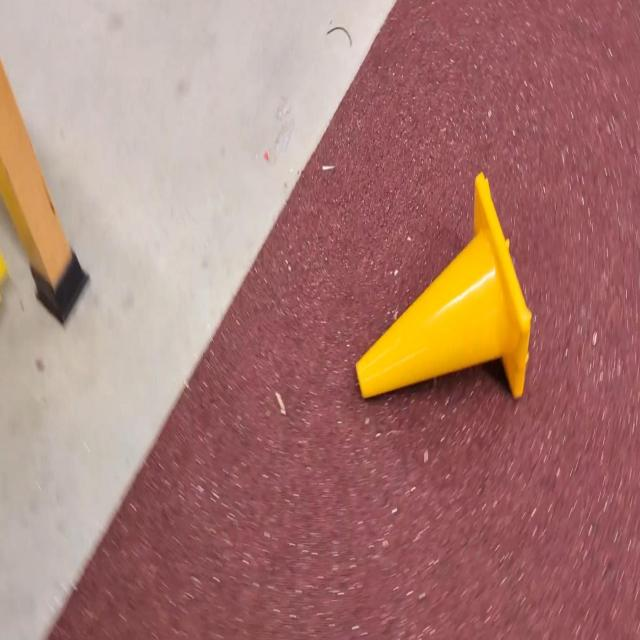frc_cone: (357, 180, 531, 399)
